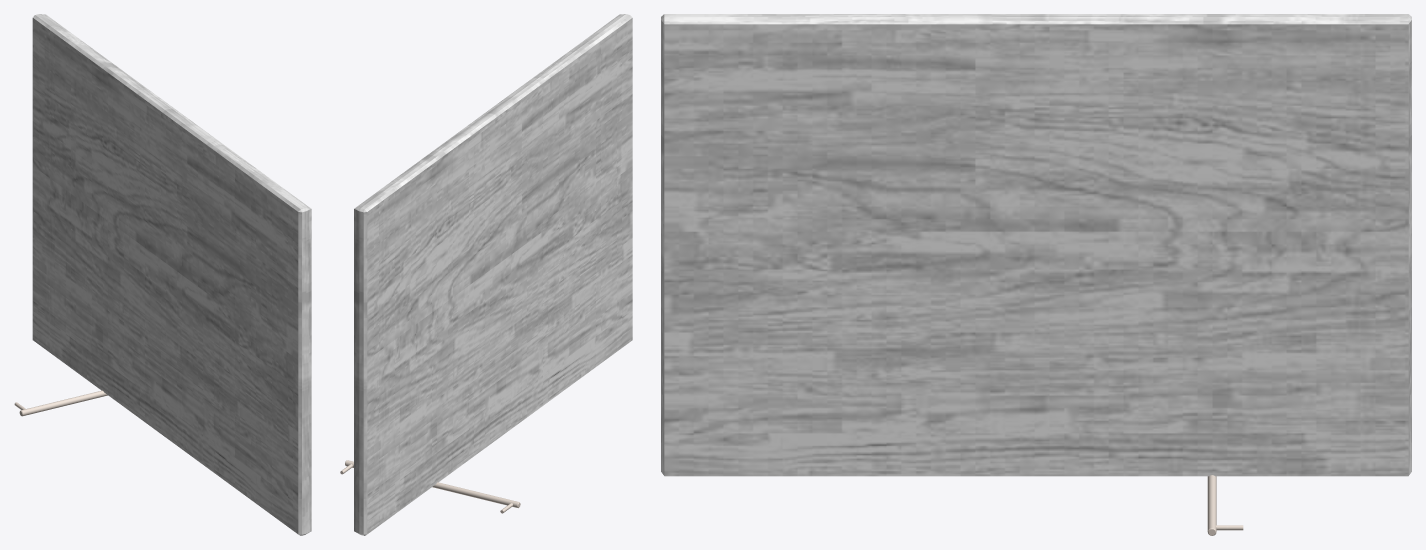
The model's file is Cabinet_95b64c5b.obj.
3 views of the same model, side by side, from view 1: azimuth 30°, elevation 25°; view 2: azimuth 150°, elevation 25°; view 3: azimuth 270°, elevation 25° (orthographic). The views are drawn at different scales.
Parts seen in each view (by area): view 1: Mesh_eda1e193, handle_1_305mm_01_bfbdf717; view 2: Mesh_eda1e193, handle_1_305mm_01_bfbdf717; view 3: Mesh_eda1e193.
Boxes of the visible parts, bbox=[...] form: Mesh_eda1e193: bbox=[32, 14, 311, 535]; handle_1_305mm_01_bfbdf717: bbox=[14, 390, 107, 416]; Mesh_eda1e193: bbox=[354, 14, 632, 535]; handle_1_305mm_01_bfbdf717: bbox=[340, 460, 520, 513]; Mesh_eda1e193: bbox=[661, 14, 1411, 476].
Size of the model in its own units: 0.305 by 0.5547 by 0.8175.
